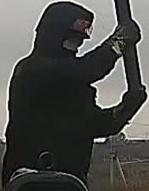gloves: (100, 18, 143, 58), (112, 84, 149, 124)
helmet: (66, 15, 94, 40)
vest: (5, 51, 94, 180)
